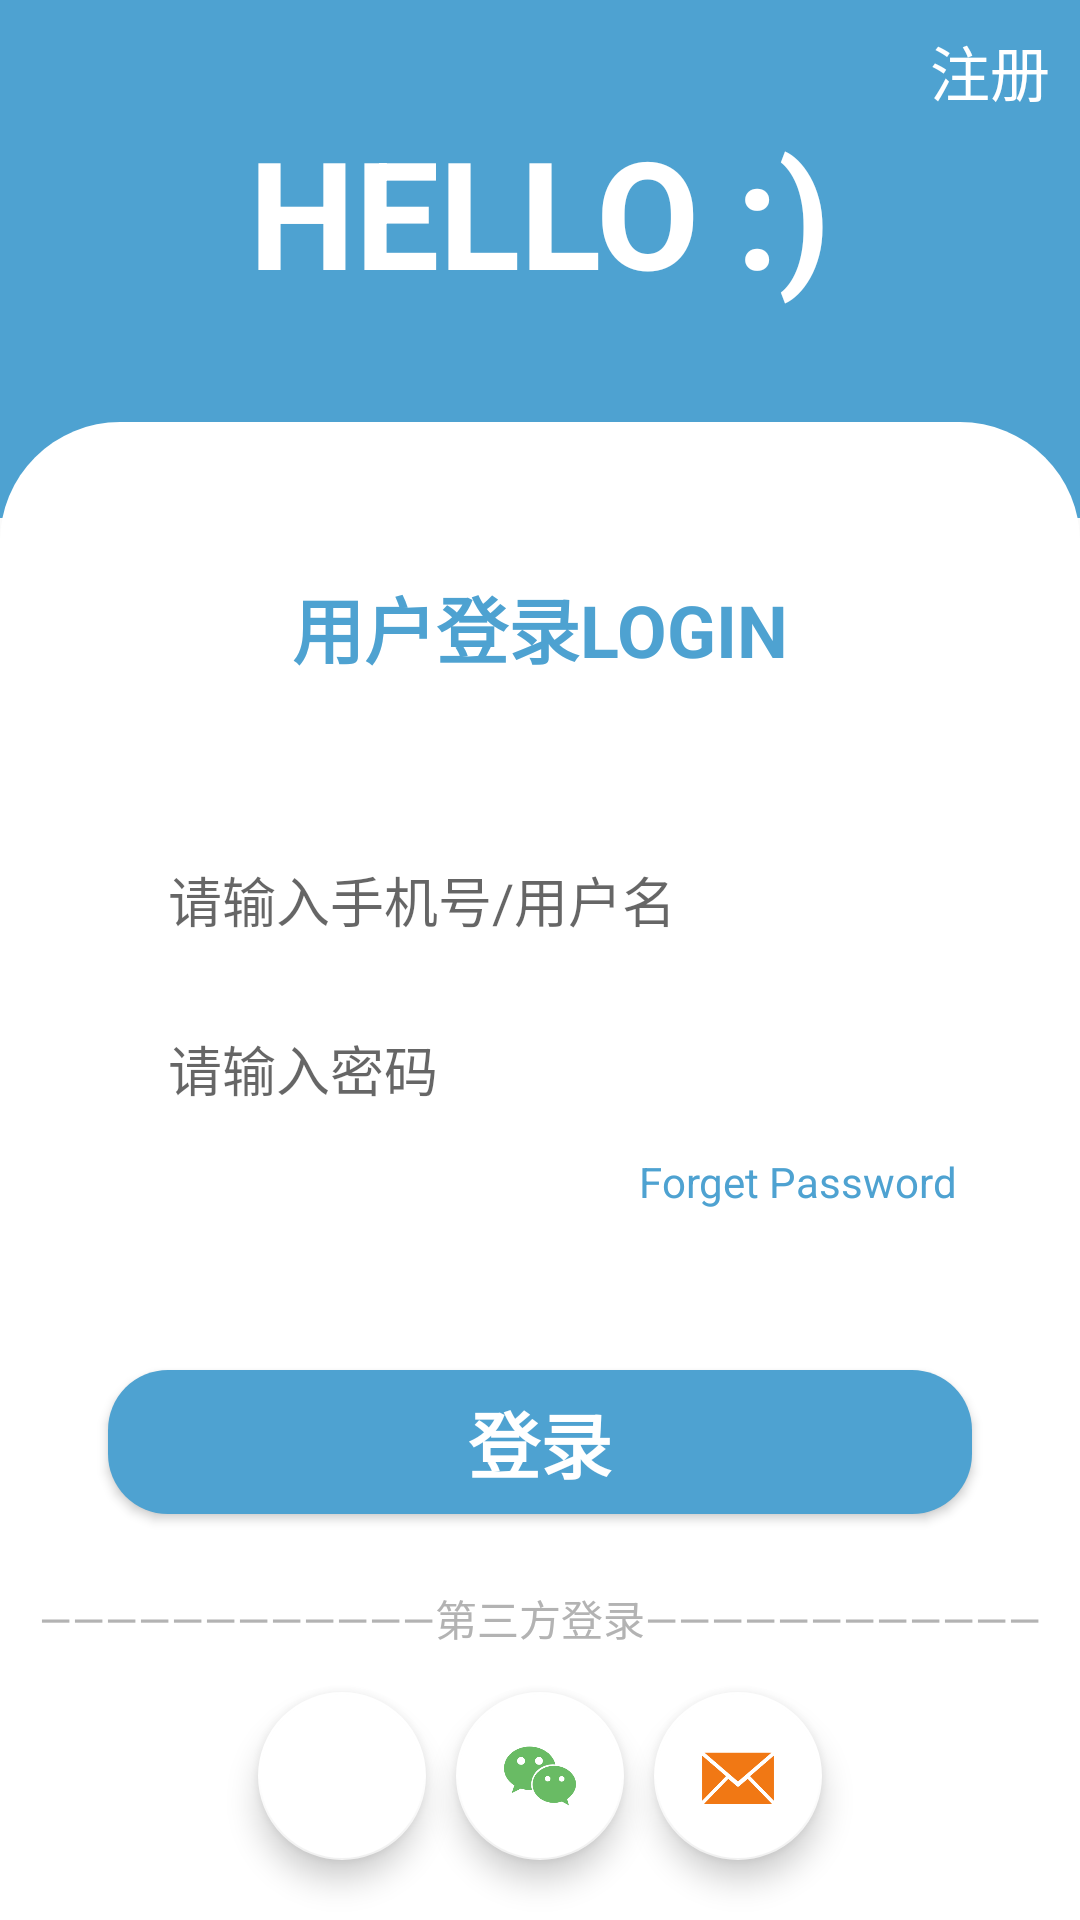

Screen size 1080x1920. Icon name, then its center in pixels as (x,y):
email: (738,1778)
